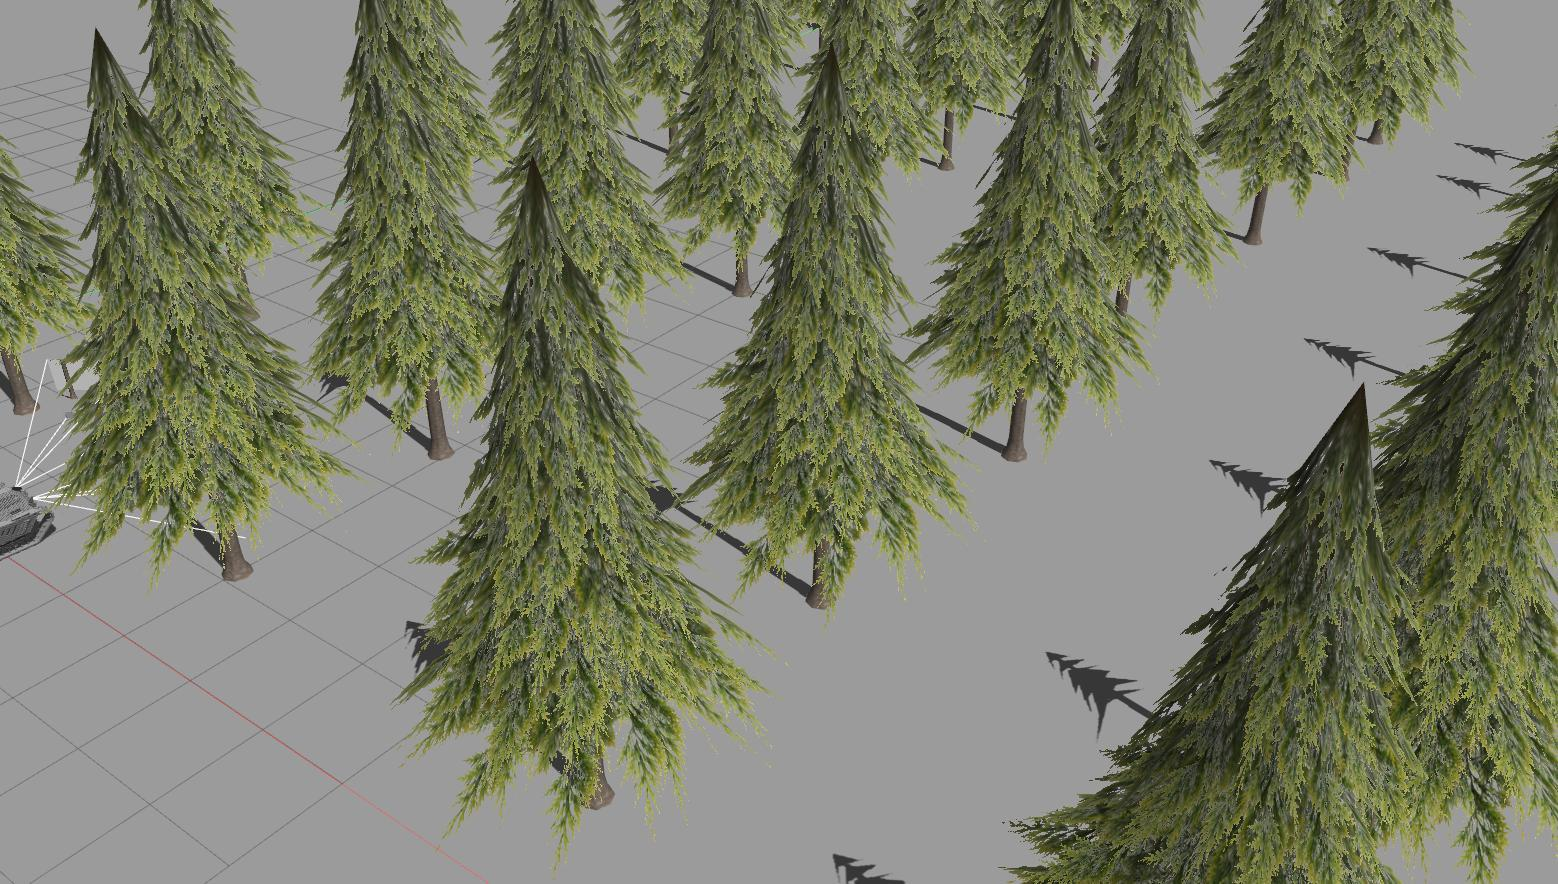tree_gazebo: (691, 0, 964, 609), (913, 0, 1226, 458), (913, 0, 1144, 458), (314, 0, 497, 458), (0, 143, 86, 414), (906, 0, 1017, 170), (612, 0, 709, 123)
